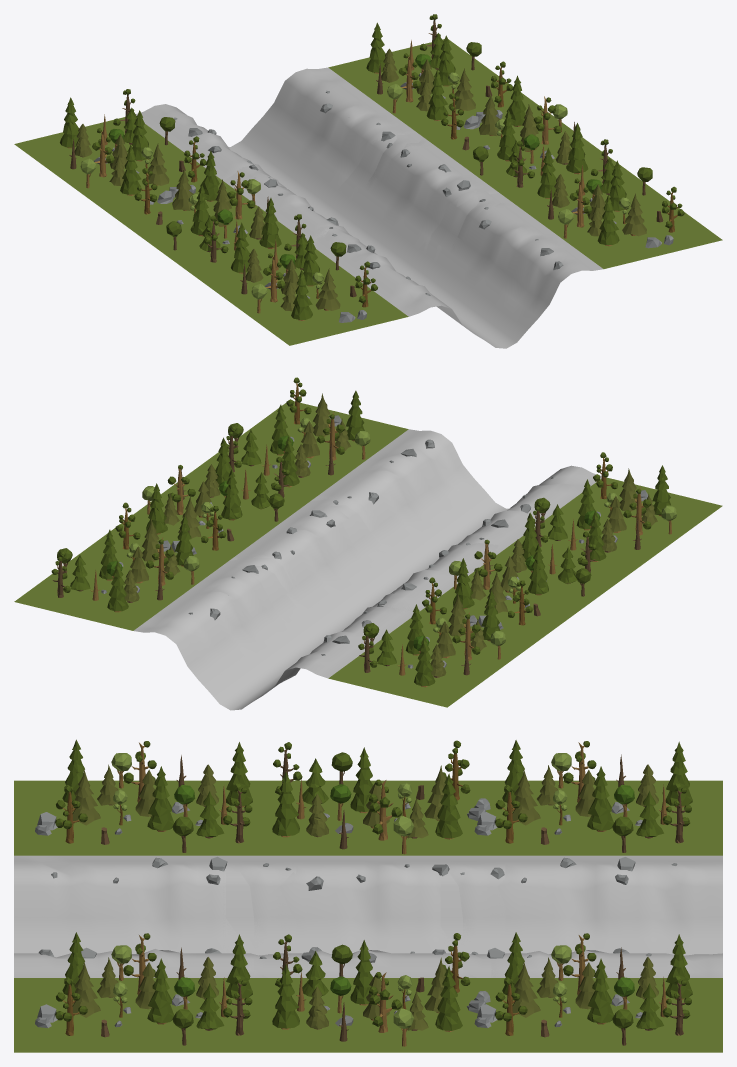
The model's file is canoeTerrainPresent.gltf.
The picture shows the model from 3 angles, top to bottom: view 1: azimuth 30°, elevation 25°; view 2: azimuth 150°, elevation 25°; view 3: azimuth 270°, elevation 25°; orthographic projection. The views are drawn at different scales.
Visible parts, largest first — view 1: canoeTerrainPresent; view 2: canoeTerrainPresent; view 3: canoeTerrainPresent.
Boxes of the visible parts, x1,y1,x2,y2 form: canoeTerrainPresent: [14, 14, 722, 348]; canoeTerrainPresent: [14, 377, 722, 710]; canoeTerrainPresent: [14, 739, 722, 1052].
Bounding box in the file's own units: 157 × 36.69 × 174.
